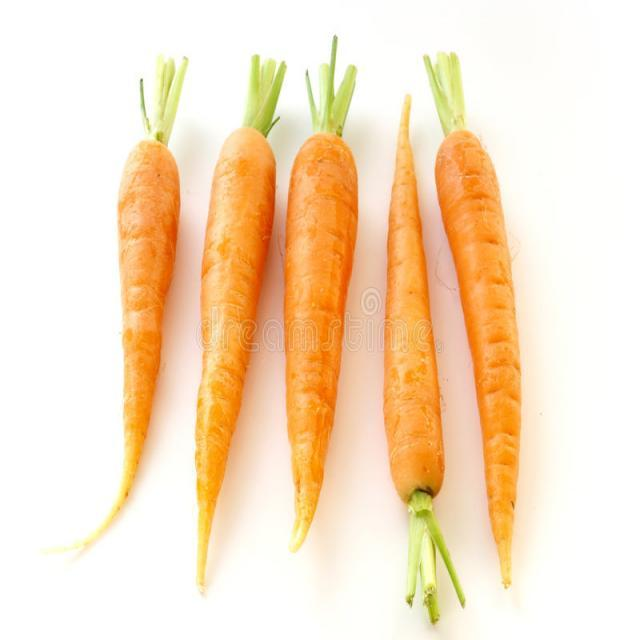Carrot: (425, 46, 540, 582), (192, 52, 280, 598), (380, 93, 467, 624), (288, 50, 362, 552), (110, 45, 186, 520)
